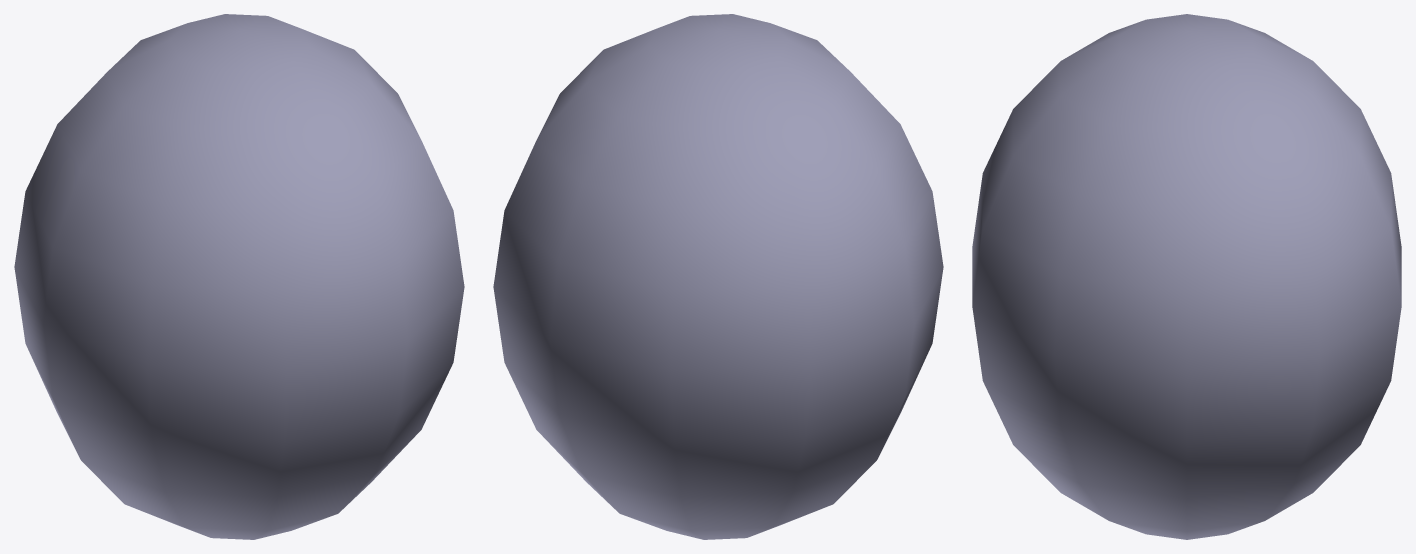
The model's file is Ferrowurm_stage1.obj.
3 views of the same model, side by side, from view 1: azimuth 30°, elevation 25°; view 2: azimuth 150°, elevation 25°; view 3: azimuth 270°, elevation 25° (orthographic).
Bounding box in the file's own units: 1.6 × 1.92 × 1.52.
